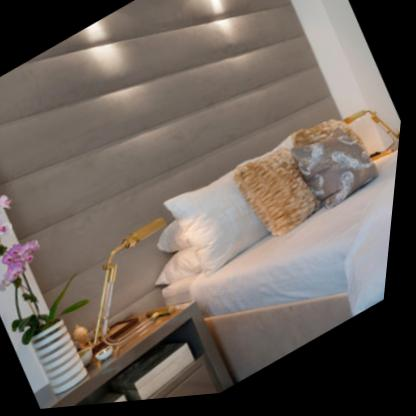Bed: (162, 125, 402, 389)
